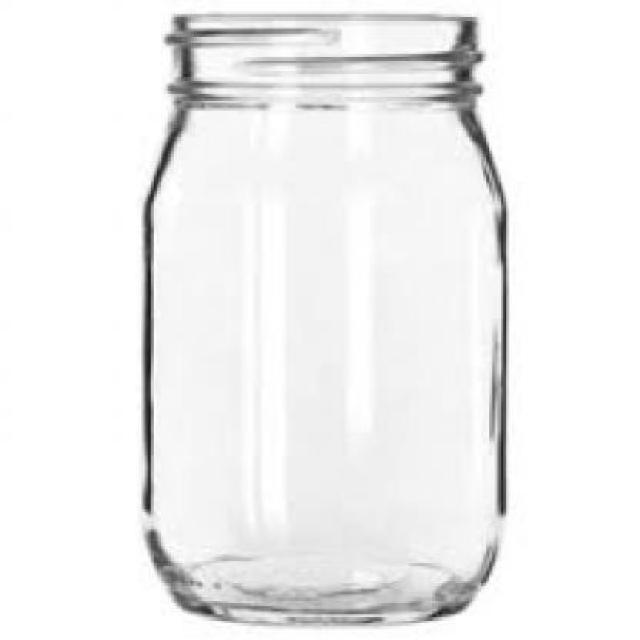kaca: (140, 8, 506, 623)
